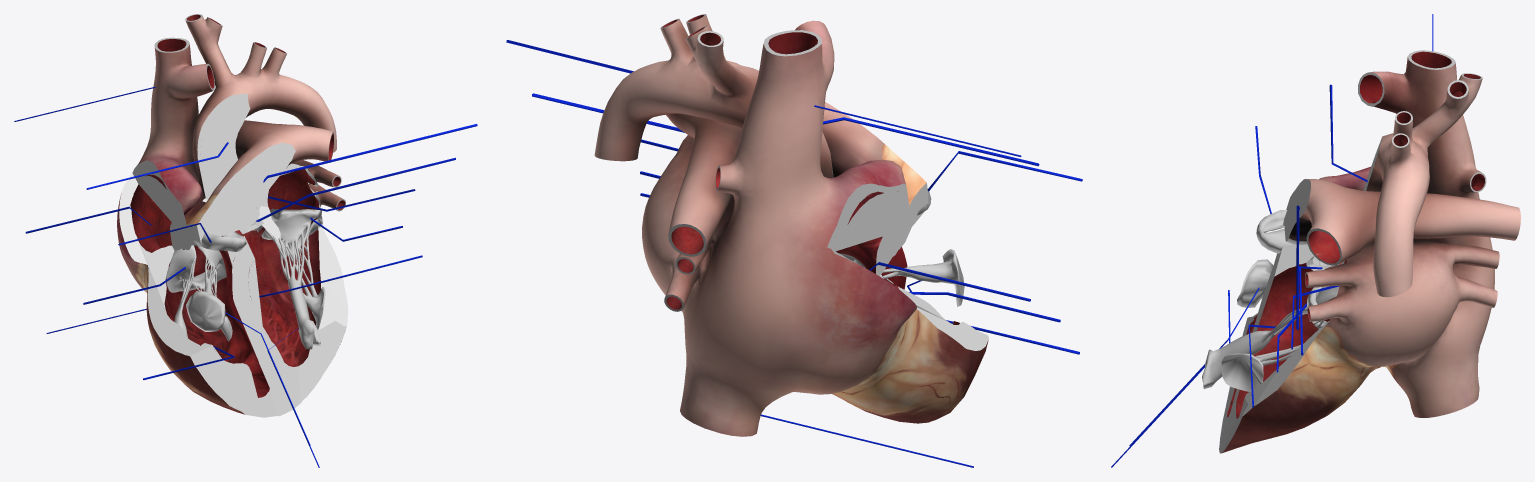
Rendered from Desain Jantung fiks.fbx.
The picture shows the model from 3 angles, left to right: view 1: azimuth 30°, elevation 25°; view 2: azimuth 150°, elevation 25°; view 3: azimuth 270°, elevation 25°; orthographic projection. The views are drawn at different scales.
Parts seen in each view (by area): view 1: cut_rings011.002, cut_rings011, cut_rings011.003, in_etalon_Splinedeformer_without.002, cut_rings011.004, Cube.013, cut_rings011.005, Katup out, Cube.001, cut_rings011.001; view 2: cut_rings011.002, cut_rings011, Cube.013, cut_rings011.003, in_etalon_Splinedeformer_without.002, cut_rings011.001; view 3: cut_rings011.002, cut_rings011.003, in_etalon_Splinedeformer_without.002, cut_rings011, Cube.013, cut_rings011.001, Katup out, cut_rings011.004.
Part boxes in pixels (<box>): cut_rings011.002: <box>117,16,343,414</box>; cut_rings011: <box>119,93,348,356</box>; cut_rings011.003: <box>130,14,345,397</box>; in_etalon_Splinedeformer_without.002: <box>166,208,325,349</box>; cut_rings011.004: <box>227,236,346,416</box>; Cube.013: <box>14,87,455,467</box>; cut_rings011.005: <box>190,345,276,417</box>; Katup out: <box>194,218,263,251</box>; Cube.001: <box>263,124,477,182</box>; cut_rings011.001: <box>154,14,345,211</box>; cut_rings011.002: <box>594,15,988,436</box>; cut_rings011: <box>827,161,988,350</box>; Cube.013: <box>532,93,1082,467</box>; cut_rings011.003: <box>662,15,959,324</box>; in_etalon_Splinedeformer_without.002: <box>839,249,964,306</box>; cut_rings011.001: <box>660,14,821,311</box>; cut_rings011.002: <box>1221,57,1520,453</box>; cut_rings011.003: <box>1227,51,1485,418</box>; in_etalon_Splinedeformer_without.002: <box>1202,259,1338,391</box>; cut_rings011: <box>1242,137,1382,415</box>; Cube.013: <box>1111,14,1433,467</box>; cut_rings011.001: <box>1305,50,1486,321</box>; Katup out: <box>1256,210,1338,270</box>; cut_rings011.004: <box>1219,247,1282,453</box>.
Bounding box in the file's own units: 192 × 152 × 139.
